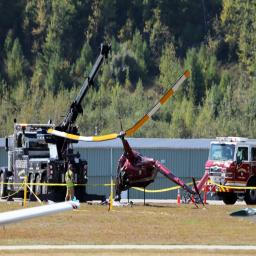helicopter: (106, 135, 218, 203)
